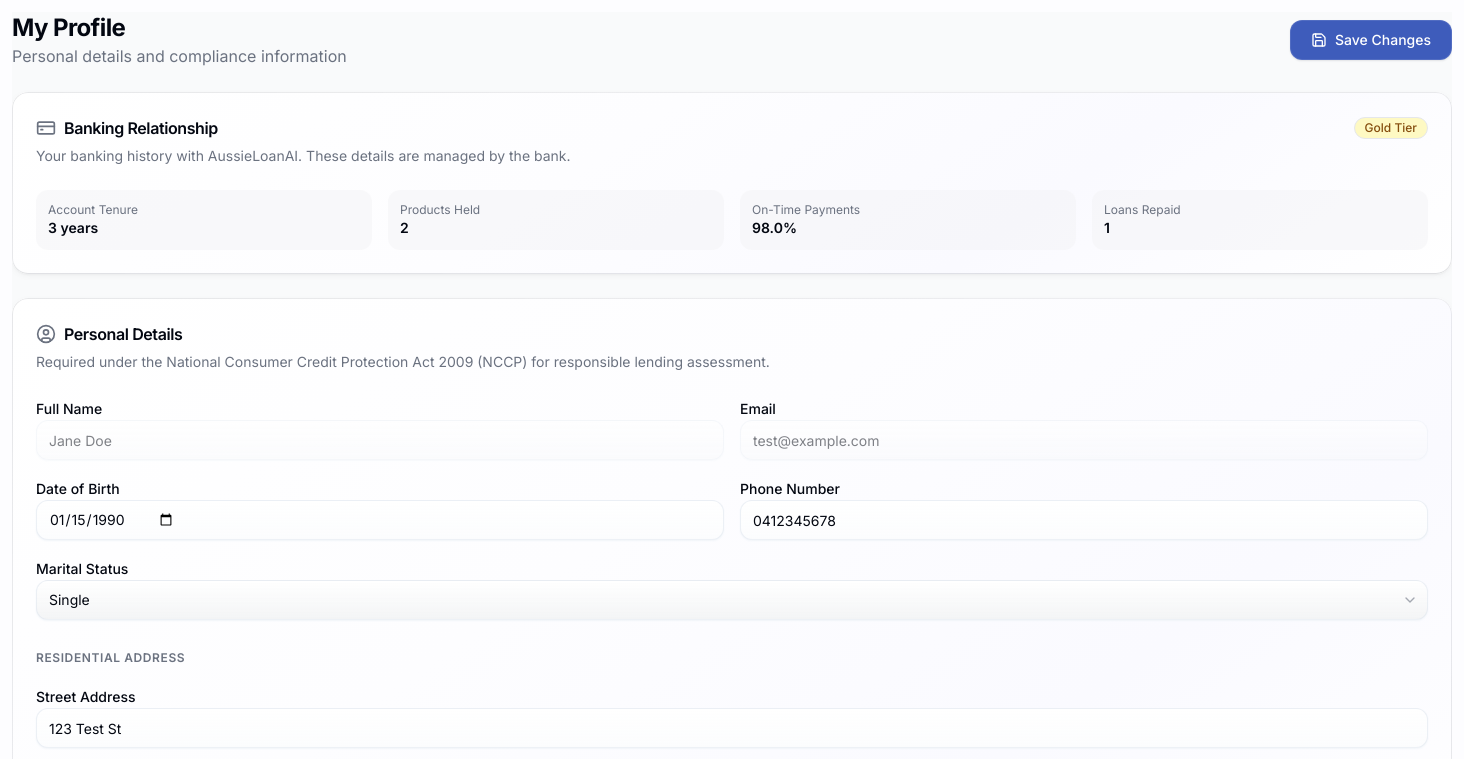
Test: ProfilePage › shows error state when profile update fails
Expected: the heading "My Profile" is shown, x1=12 y1=13 x2=125 y2=42
Click the button "Save Changes". click: click(1371, 40)
box: x1=1290 y1=20 x2=1452 y2=60
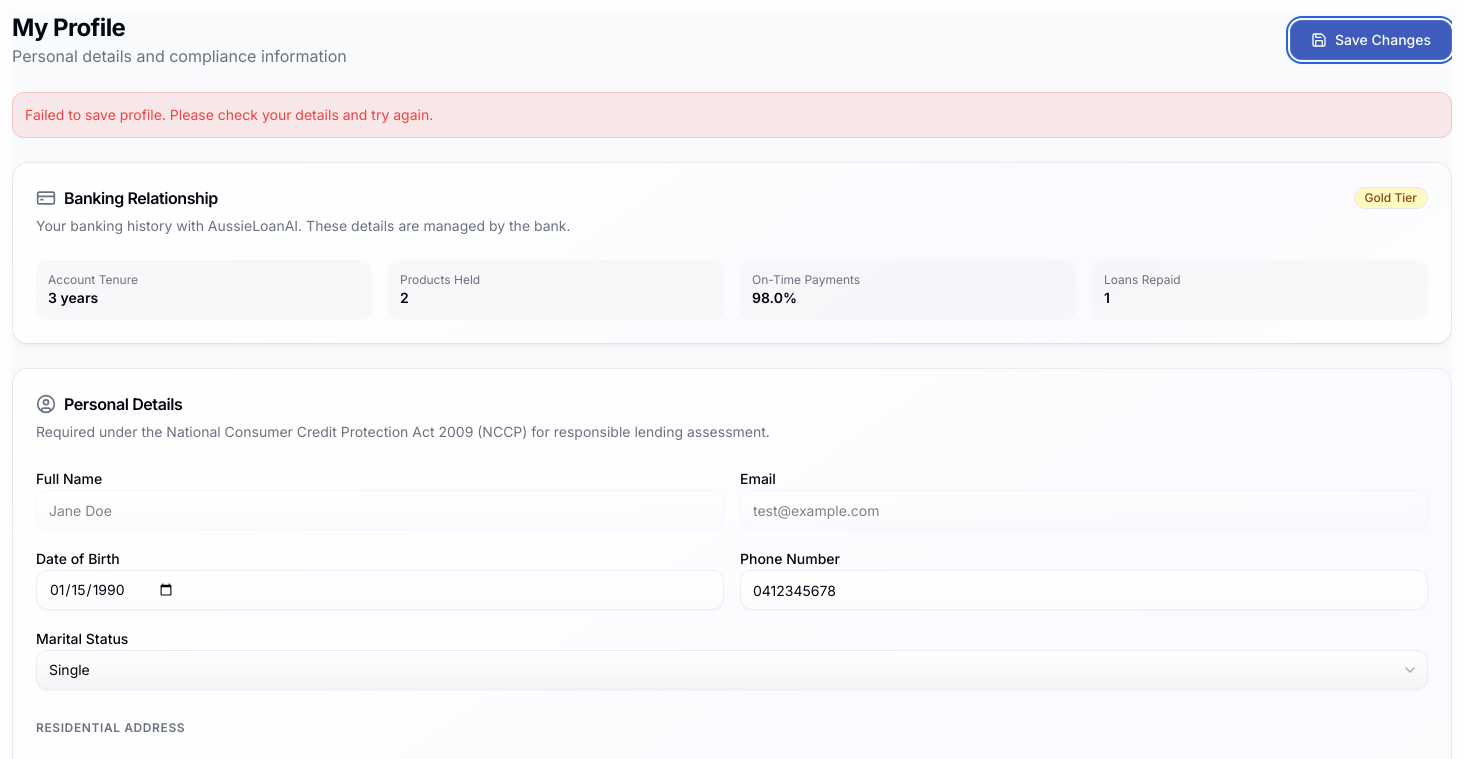
Now the text "Failed to save profile" is shown, box x1=25 y1=106 x2=433 y2=123
